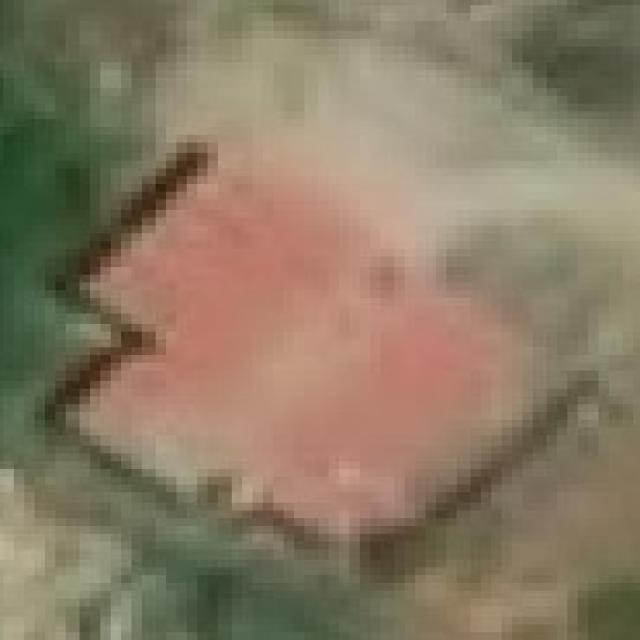Batiment: (83, 184, 524, 527)
